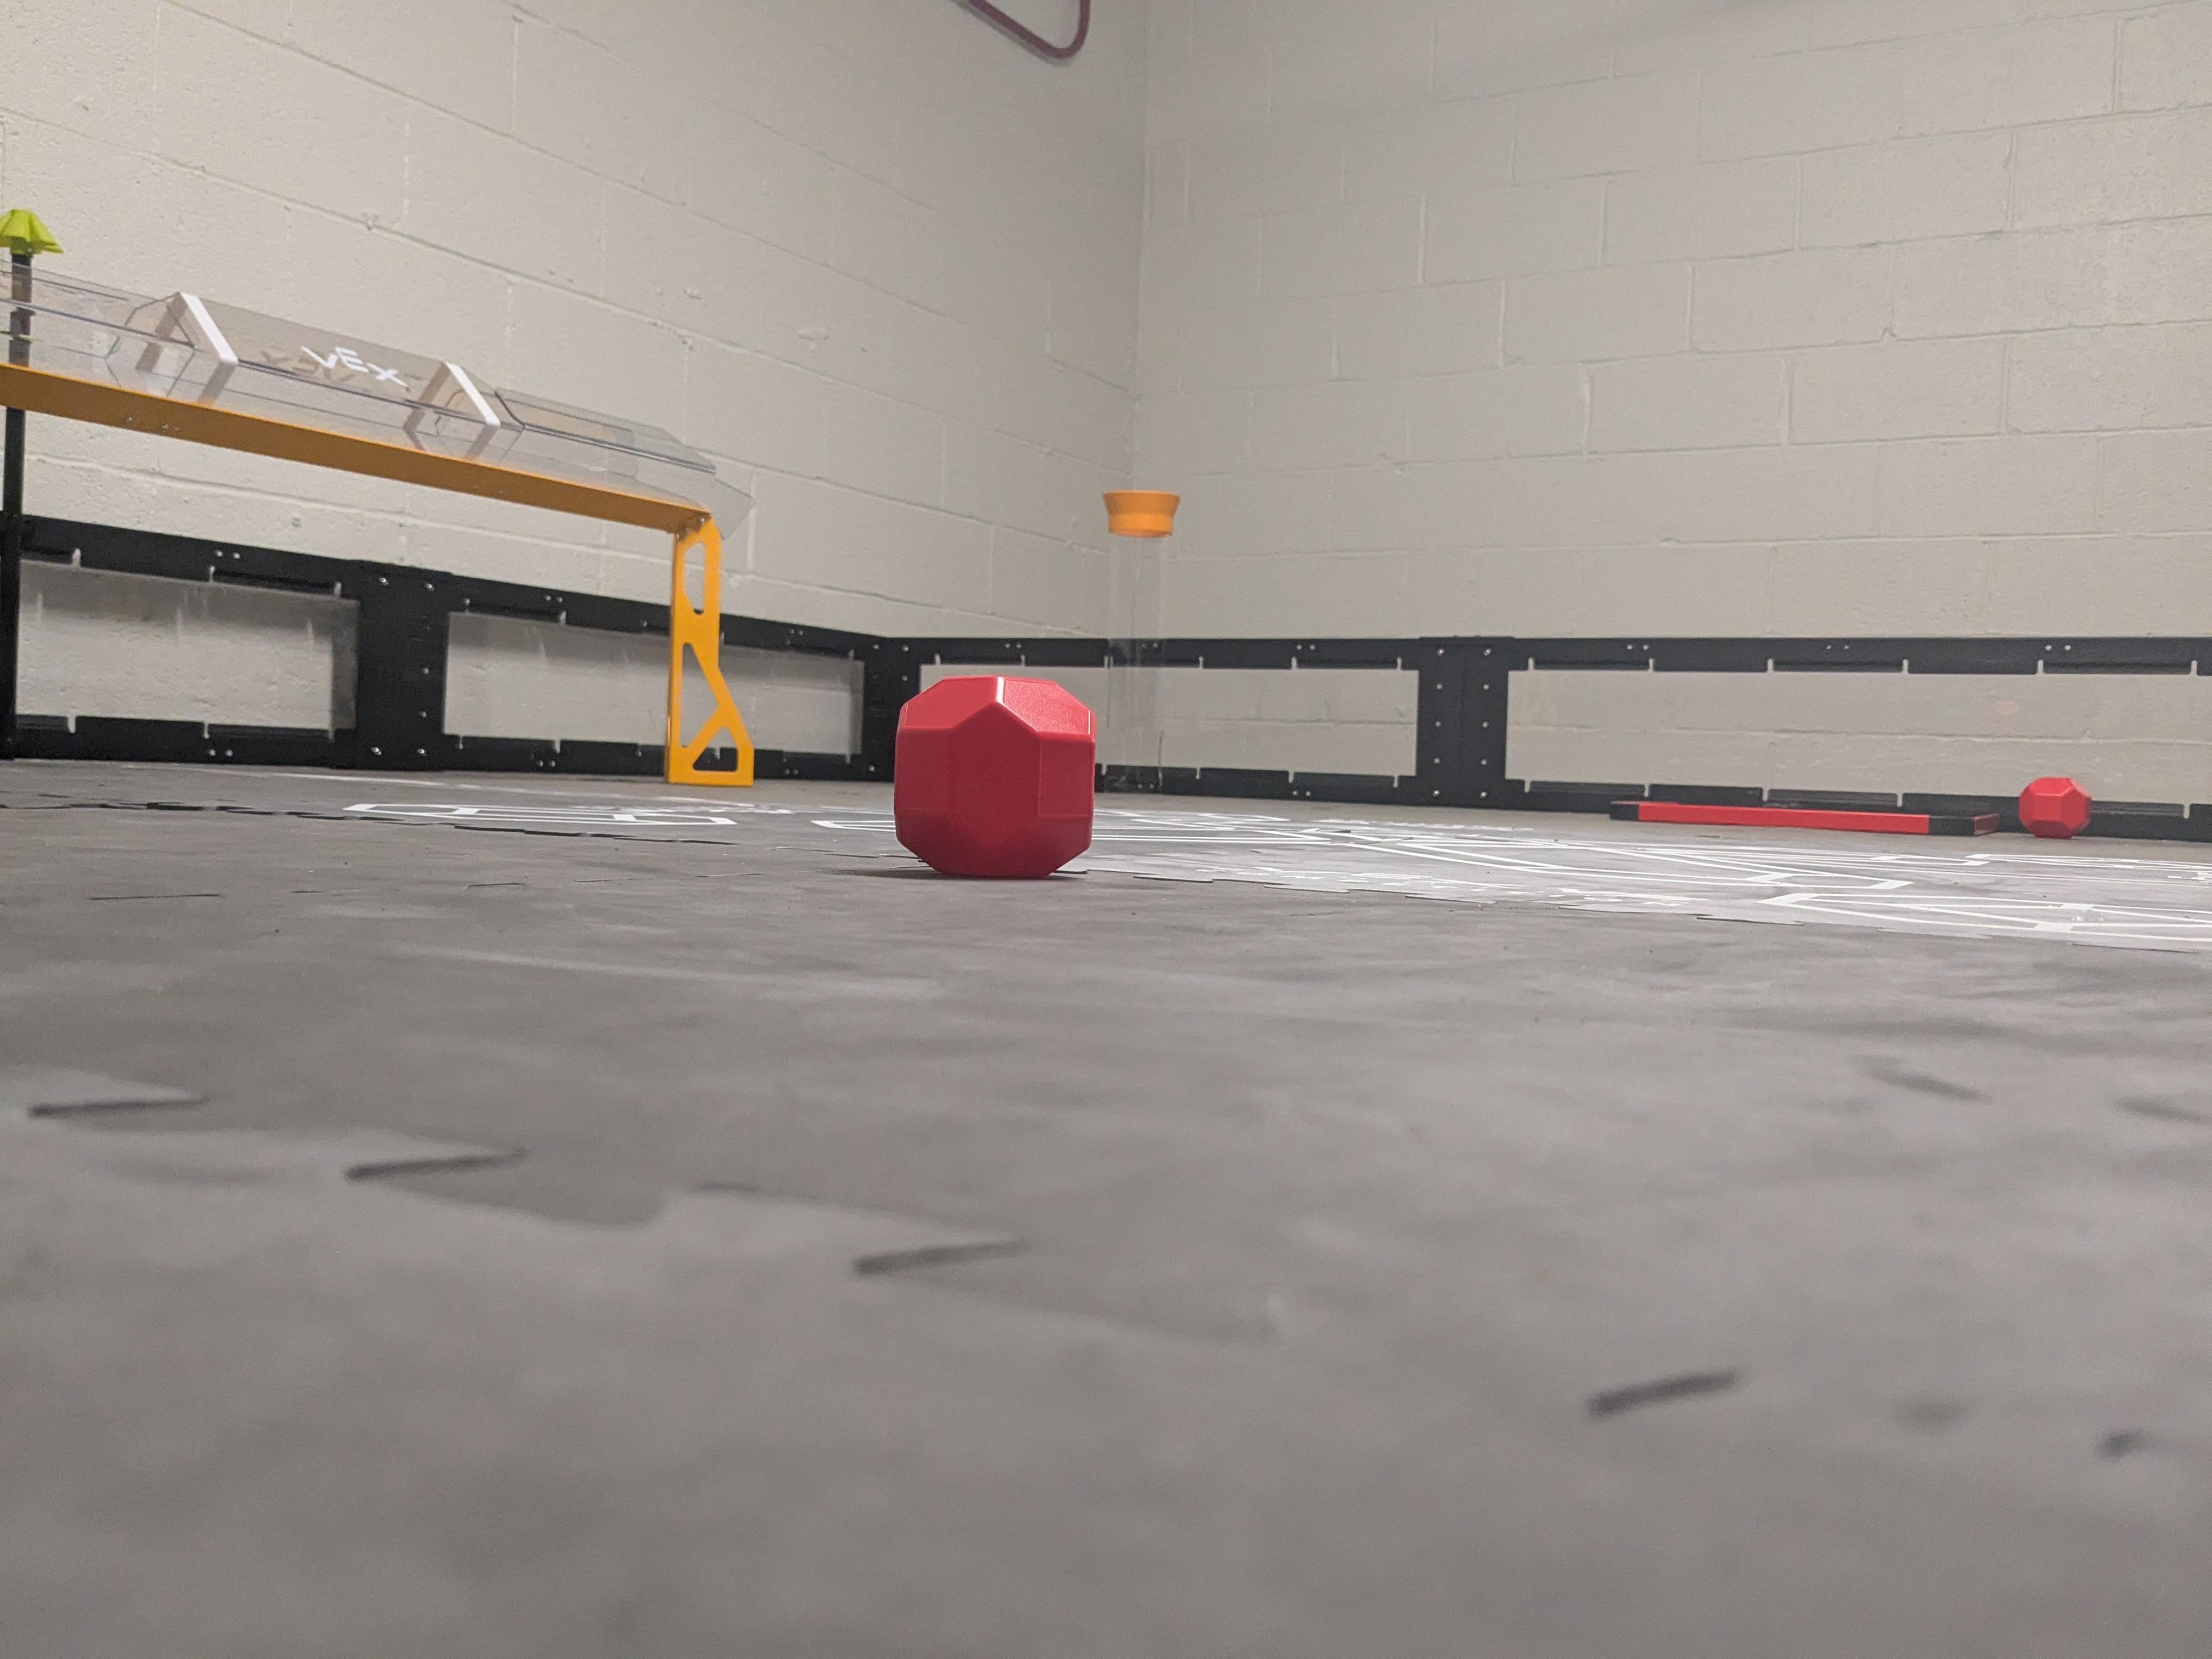Vex-Pieces-RED: (894, 678, 1096, 873), (2019, 775, 2090, 838)
